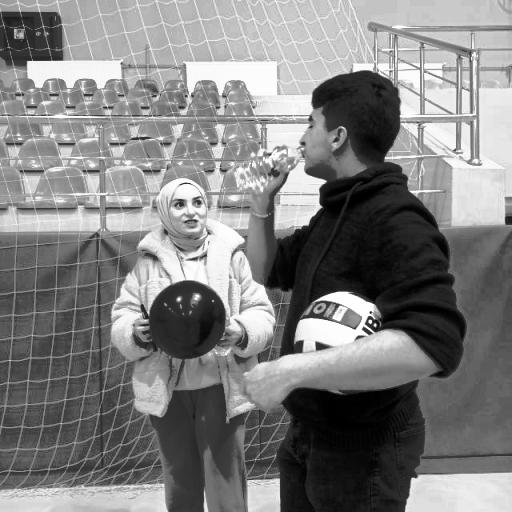balloon: (152, 280, 228, 358)
